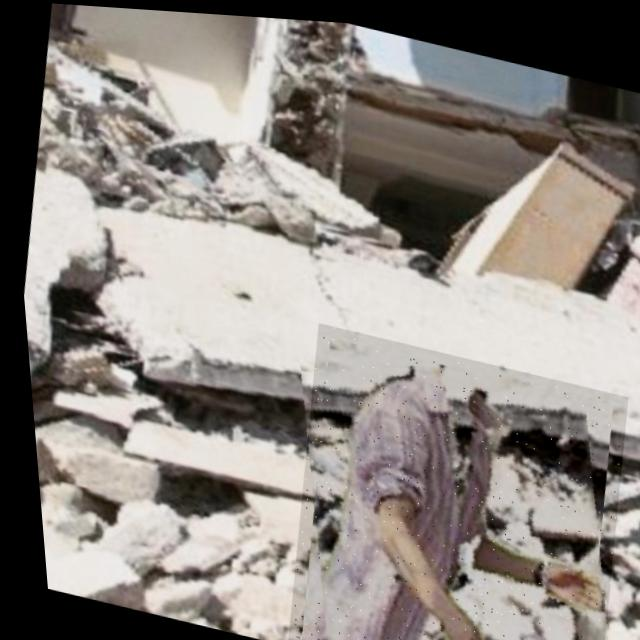Person in Rubble: (255, 315, 640, 640)
